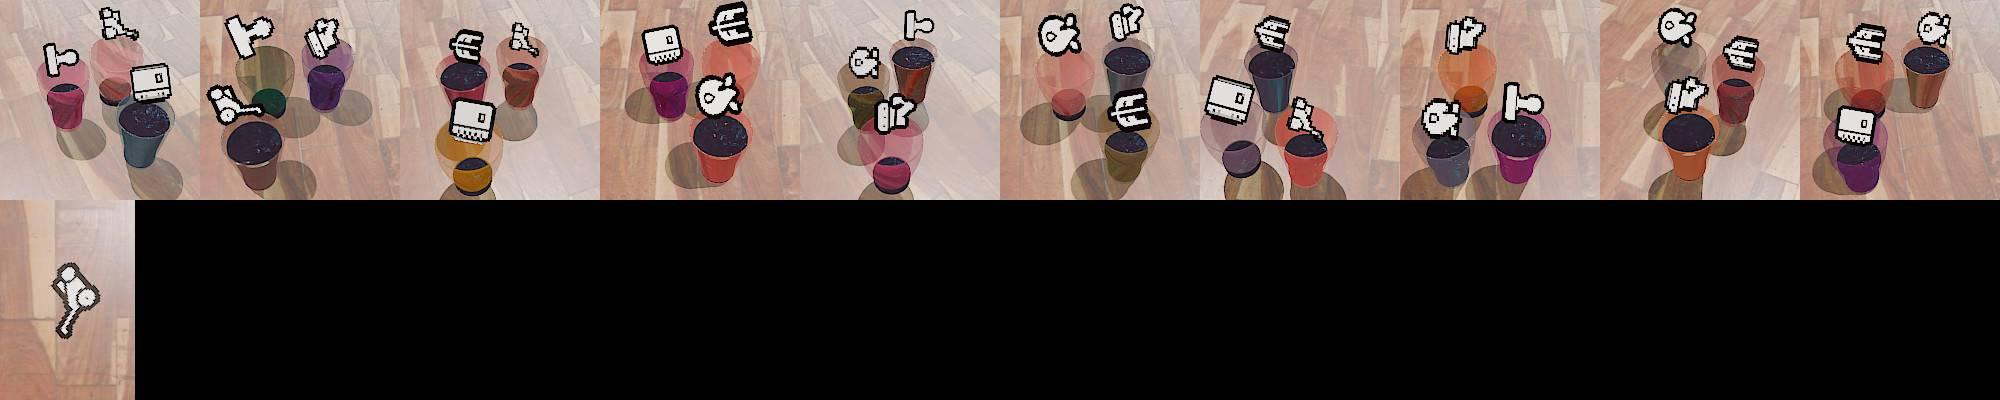icon: (50, 262, 102, 339), (1204, 74, 1255, 125), (207, 83, 263, 125), (223, 14, 274, 60), (449, 97, 496, 144), (695, 71, 742, 117), (708, 1, 754, 47), (1037, 13, 1082, 59), (1106, 87, 1152, 131), (1420, 97, 1464, 141), (1501, 80, 1545, 125), (1665, 73, 1710, 115), (875, 92, 918, 134), (1444, 15, 1487, 56), (129, 62, 172, 103), (642, 24, 684, 65), (1835, 104, 1878, 145), (304, 15, 342, 60), (1657, 8, 1698, 48), (1847, 23, 1888, 64), (98, 6, 140, 42), (1721, 36, 1760, 73), (1108, 3, 1145, 41), (1253, 15, 1291, 52), (42, 42, 80, 78), (1917, 10, 1953, 47), (449, 28, 485, 64), (509, 22, 542, 56), (848, 45, 880, 79), (903, 9, 934, 42), (1288, 96, 1316, 130)
